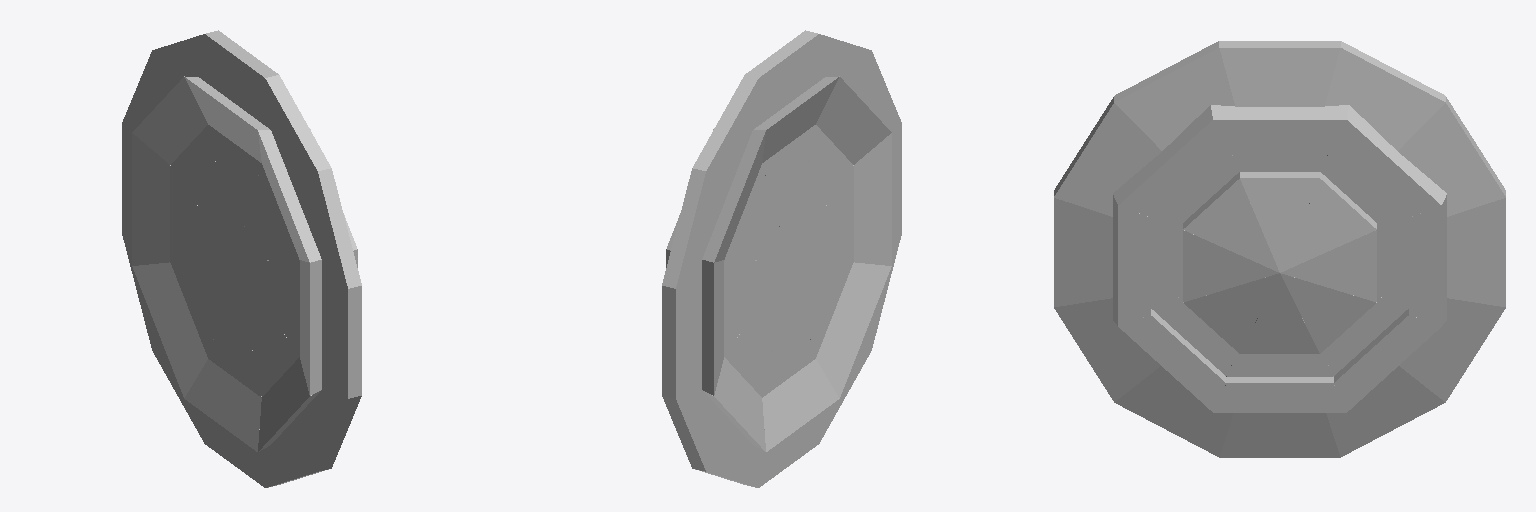
Rendered from hubcap_d14_belfire.obj.
3 renders of one model, left to right at view 1: azimuth 30°, elevation 25°; view 2: azimuth 150°, elevation 25°; view 3: azimuth 270°, elevation 25°, orthographic.
Parts seen in each view (by area): view 1: bodyDoorCloseModel; view 2: bodyDoorCloseModel; view 3: bodyDoorCloseModel.
Part boxes in pixels (left/top/right/bottom): bodyDoorCloseModel: left=122, top=30, right=361, bottom=487; bodyDoorCloseModel: left=662, top=30, right=901, bottom=487; bodyDoorCloseModel: left=1054, top=41, right=1505, bottom=457.
Bounding box in the file's own units: 0.0781 × 0.4375 × 0.4375.